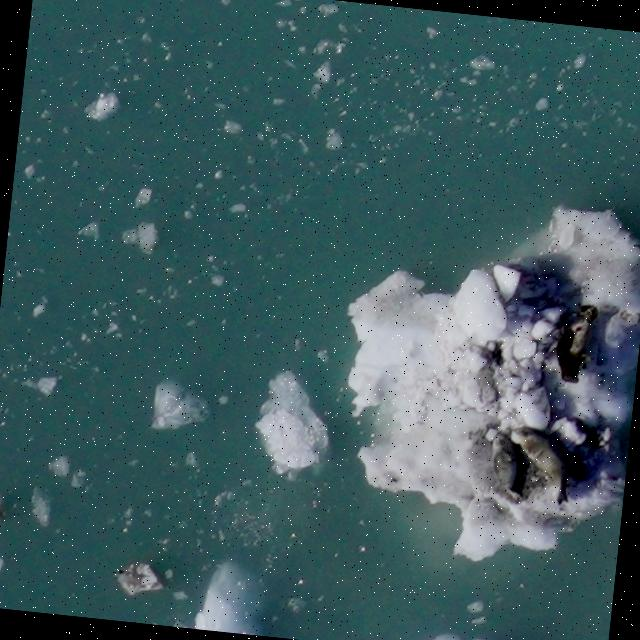seal: (501, 420, 583, 512), (550, 298, 602, 390), (483, 425, 536, 506)
